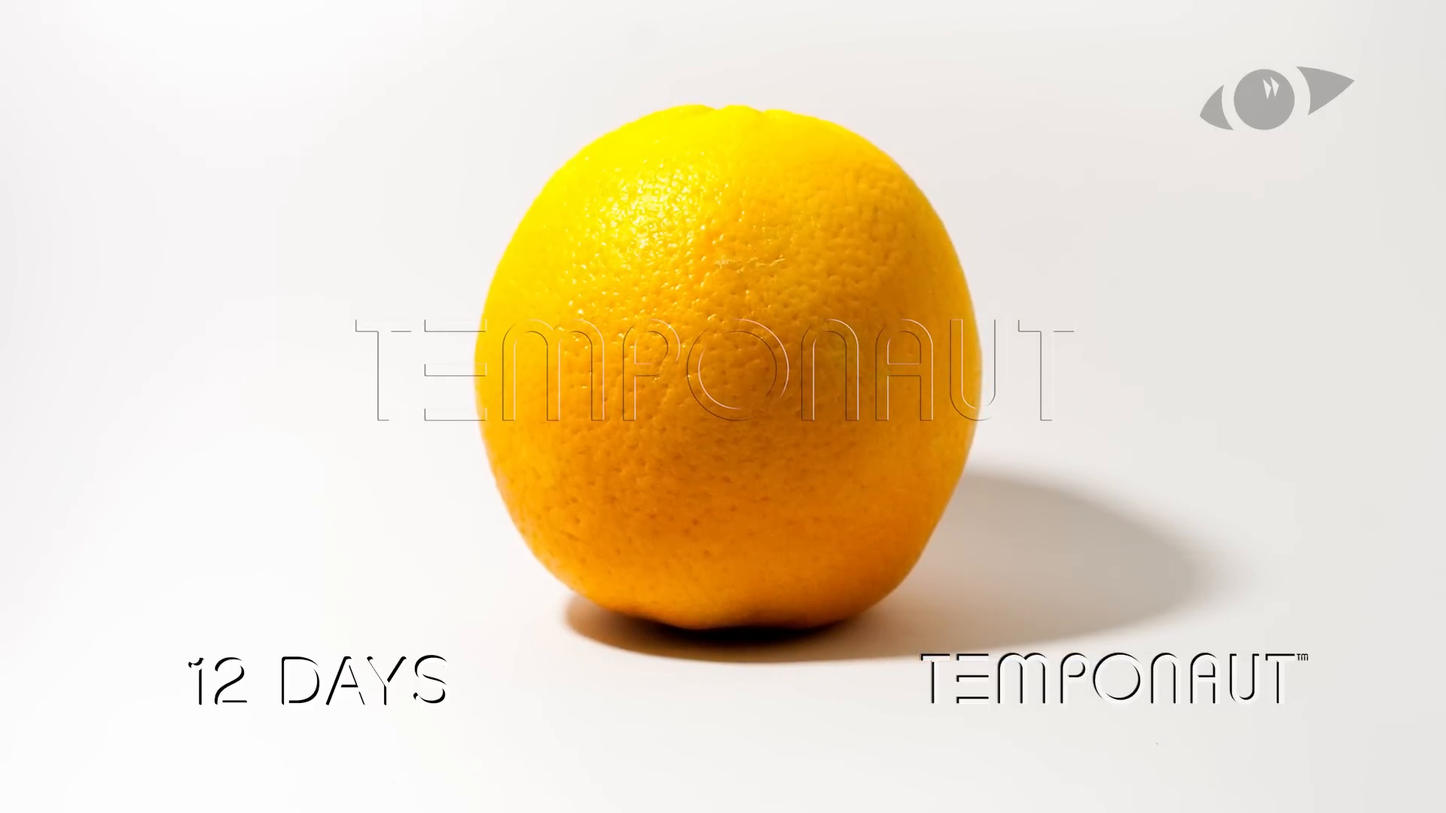orange_fresh: (471, 101, 984, 636)
